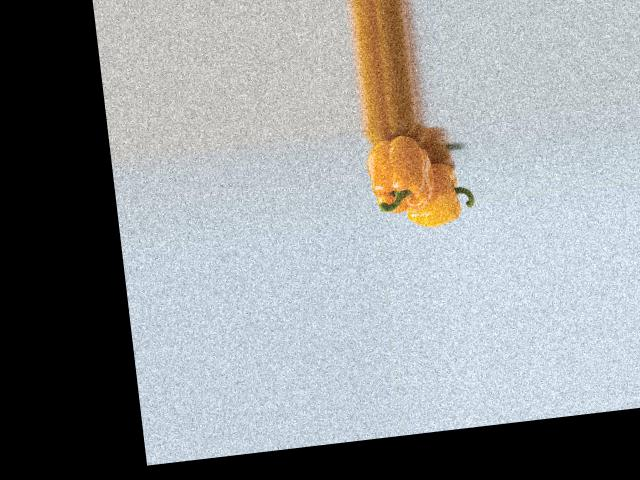bell_pepper: (397, 148, 476, 230)
